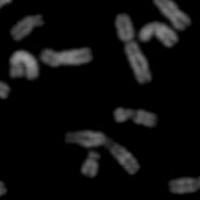chromosome: (69, 130, 140, 172), (116, 15, 153, 85), (133, 0, 190, 29), (41, 44, 94, 69), (9, 11, 46, 44), (114, 104, 158, 130), (8, 49, 39, 84), (138, 23, 180, 47), (168, 173, 200, 195), (81, 150, 99, 175), (0, 80, 11, 101), (0, 0, 24, 9), (0, 176, 6, 200)
